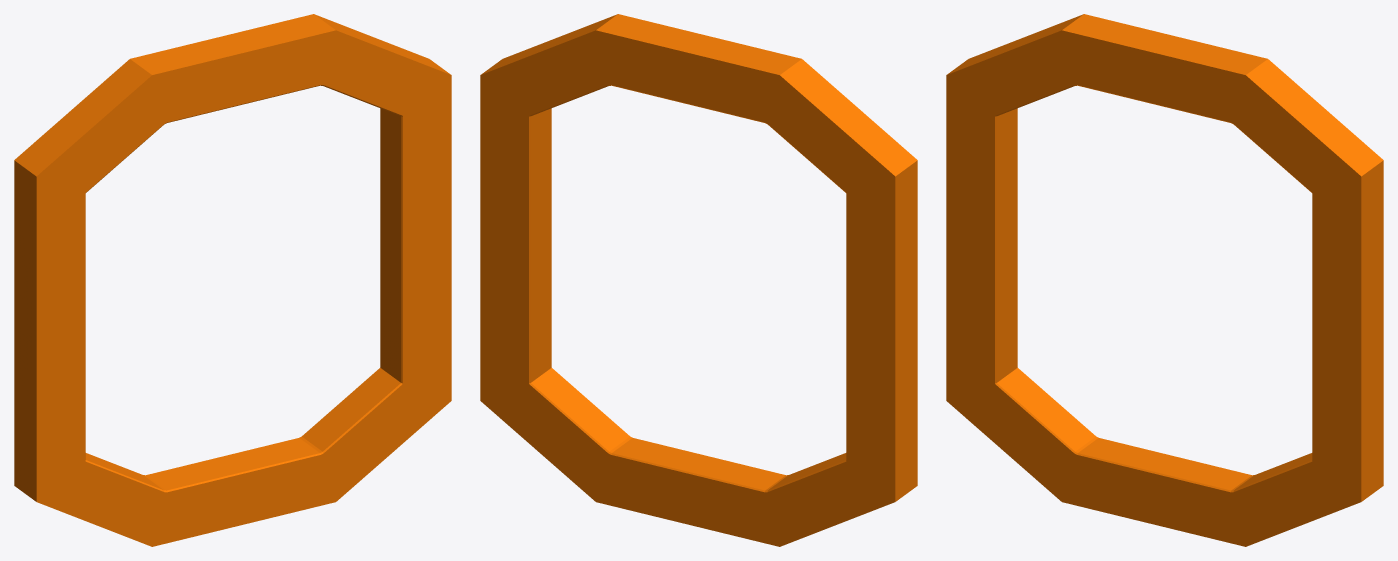
The model's file is corridor_bulwark.obj.
3 views of the same model, side by side, from view 1: azimuth 30°, elevation 25°; view 2: azimuth 150°, elevation 25°; view 3: azimuth 330°, elevation 25° (orthographic).
Visible parts, largest first — view 1: object1; view 2: object1; view 3: object1.
Part boxes in pixels (x1,y1,x2,y2): object1: (14,14,451,546); object1: (480,14,917,546); object1: (946,14,1383,546).
Bounding box in the file's own units: 70 × 76 × 6.52.
